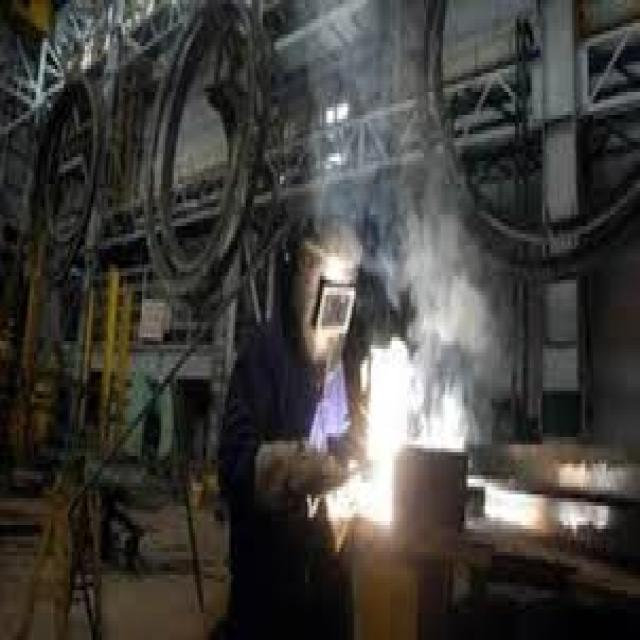with_helmet: (274, 196, 372, 394)
